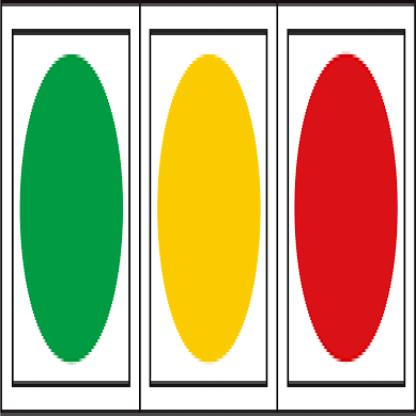traffic-light: (6, 6, 412, 390)
